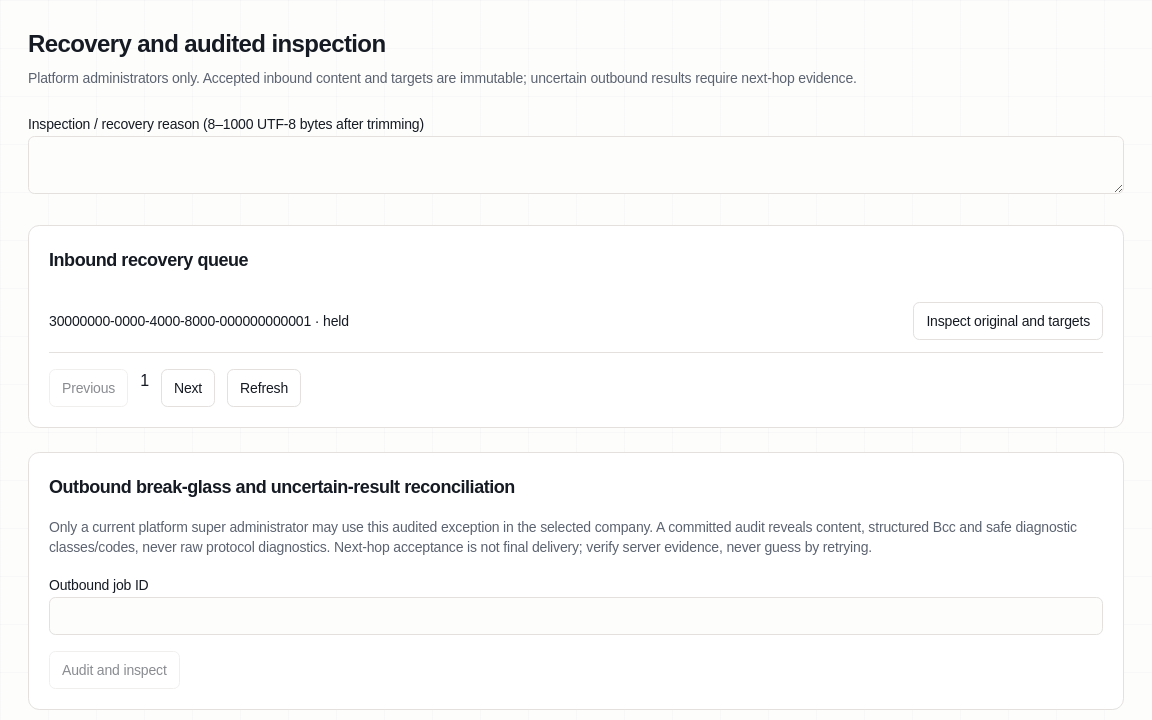
it: Recovery queue authoritative load states › retires stale rows and pagination after a 503 refresh failure, then accepts a successful retry
The image size is (1152, 720).
Type "Keep the operator recovery evidence" into the text box labelled "Inspection / recovery reason (8–1000 UTF-8 bytes after trimming)".
click(576, 165); type("Keep the operator recovery evidence")  # box 28,136 -> 1124,194
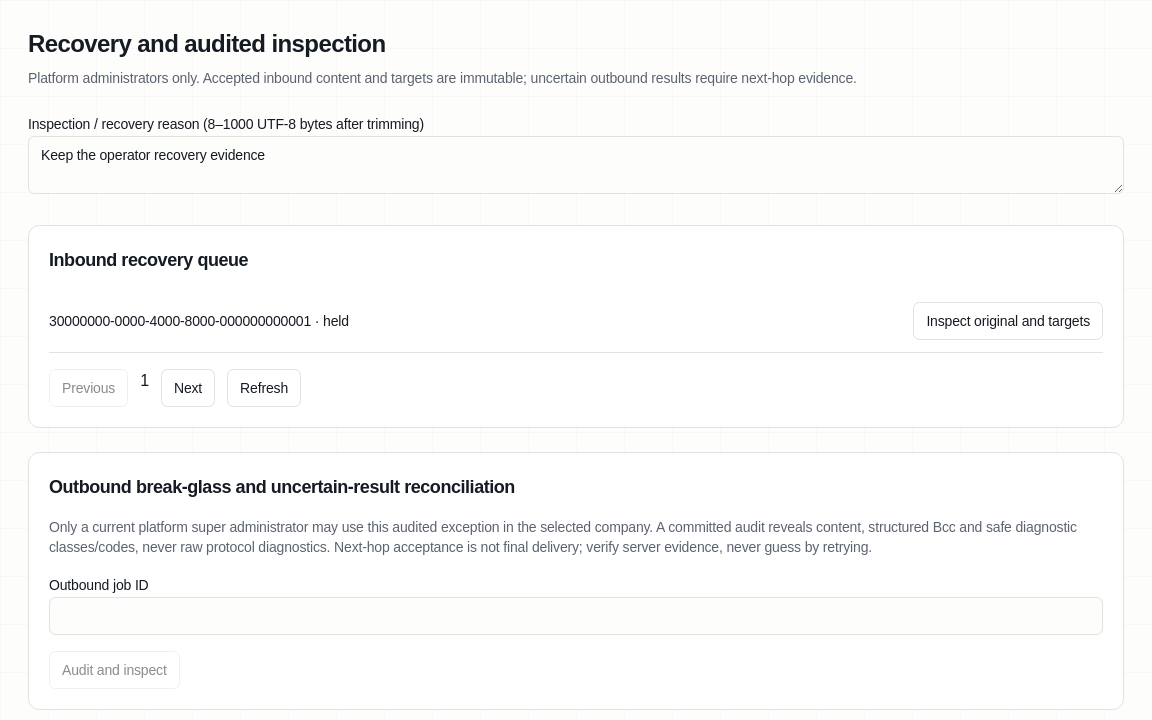
Expected: the button "Next" is enabled, 161,369 -> 215,407
Click the button "Refresh".
click(264, 388)  # box 227,369 -> 301,407
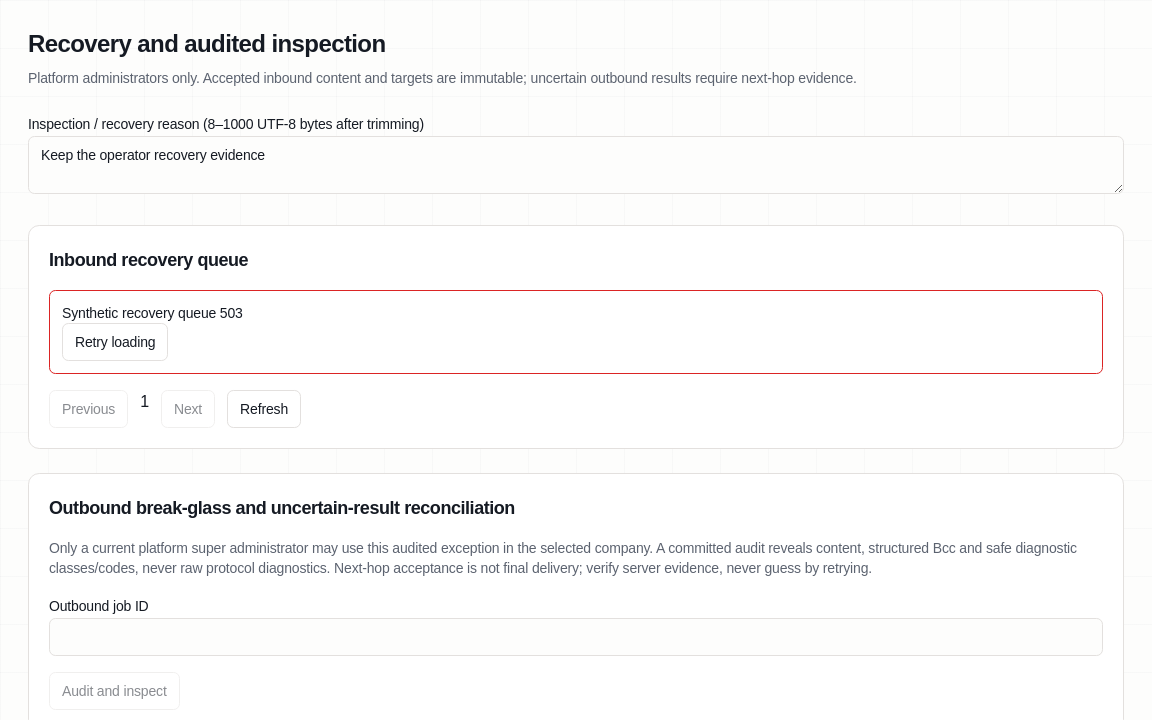
Expected: the button "Inspect original and targets" is gone
Expected: the button "Next" is disabled, 161,390 -> 215,428
Click the button "Retry loading".
click(115, 342)  # box 62,323 -> 168,361
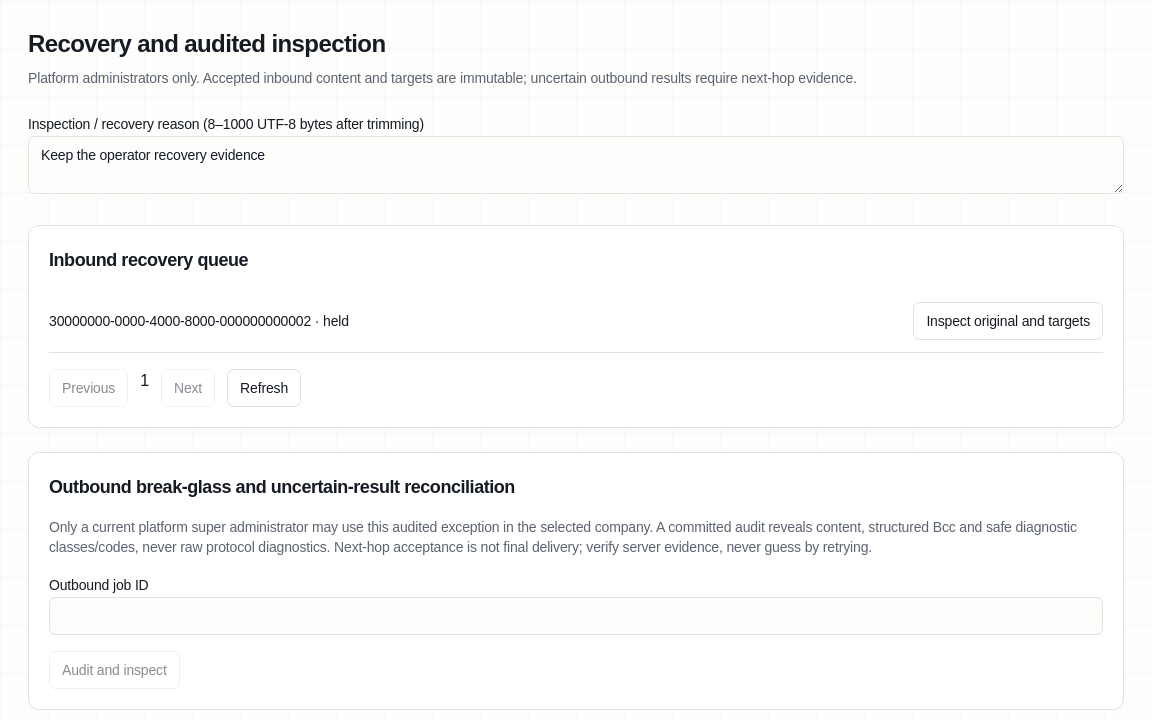
Expected: the button "Next" is disabled, 161,369 -> 215,407
Expected: the message "Synthetic recovery queue 503 Retry loading" is gone
